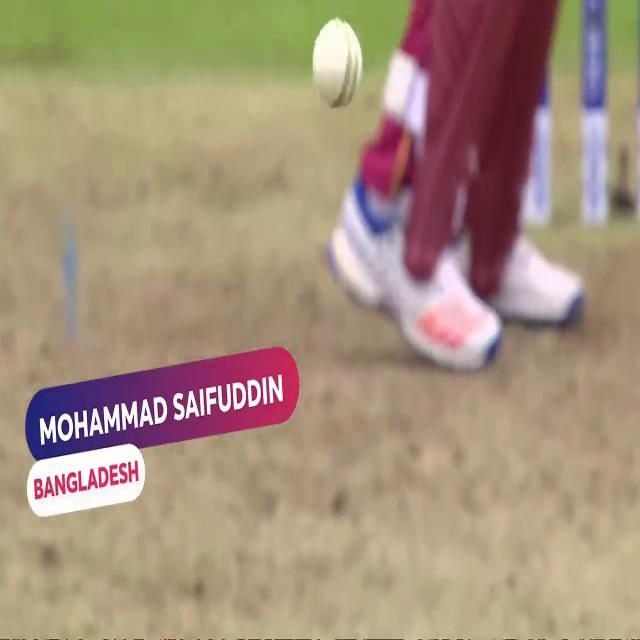ball: (311, 14, 364, 112)
